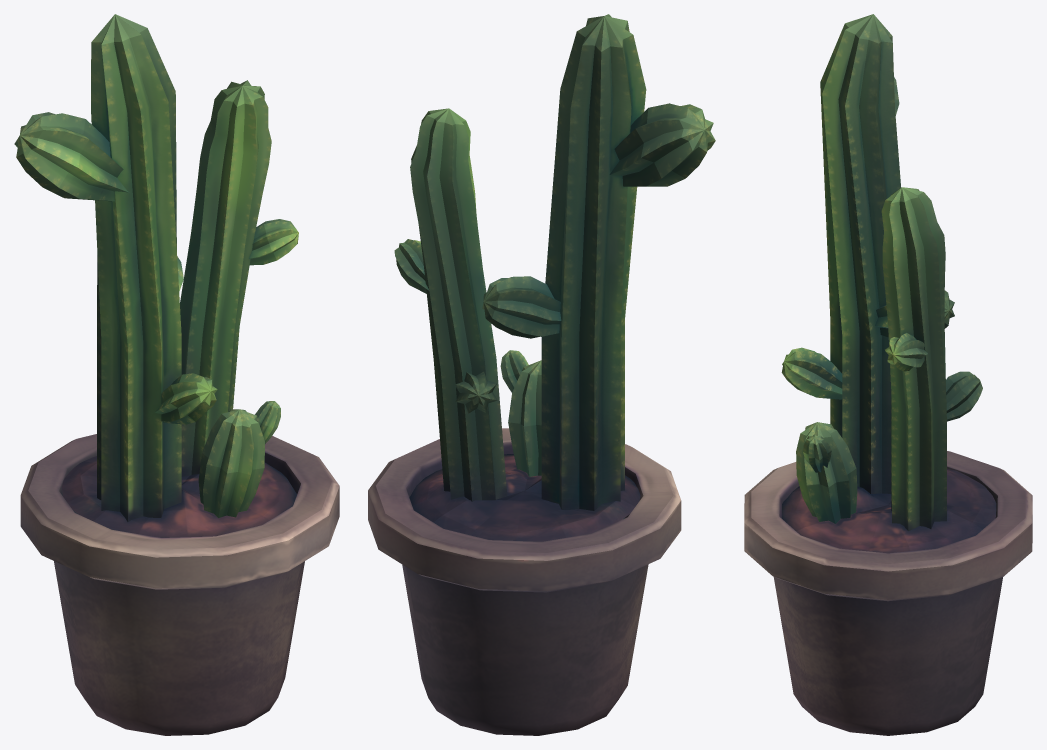
The model's file is cactus.glb.
3 renders of one model, left to right at view 1: azimuth 30°, elevation 25°; view 2: azimuth 150°, elevation 25°; view 3: azimuth 270°, elevation 25°, orthographic. The views are drawn at different scales.
Parts seen in each view (by area): view 1: pCylinder23_solidShader_0; view 2: pCylinder23_solidShader_0; view 3: pCylinder23_solidShader_0.
Part boxes in pixels (box(x1,y1,x2,y2)): pCylinder23_solidShader_0: box(14, 14, 339, 735); pCylinder23_solidShader_0: box(368, 14, 715, 735); pCylinder23_solidShader_0: box(744, 14, 1032, 735).
Bounding box in the file's own units: 0.2226 × 0.4829 × 0.192.
1 material, 1 textured.
